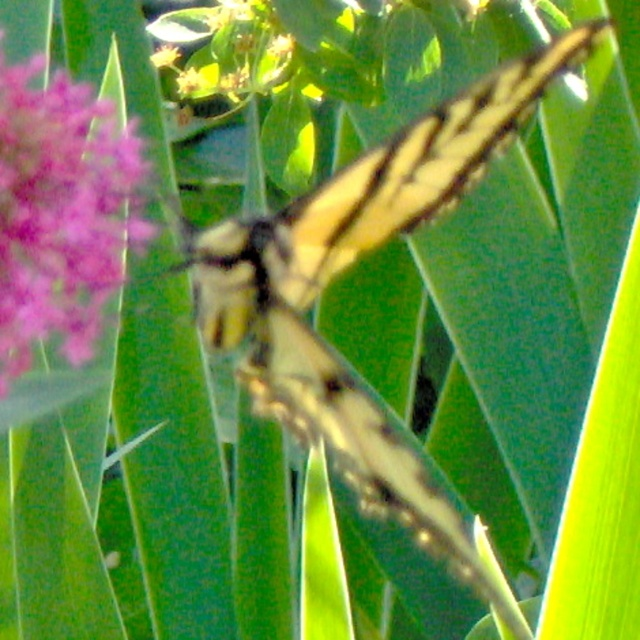Butterfly: (146, 0, 615, 601)
